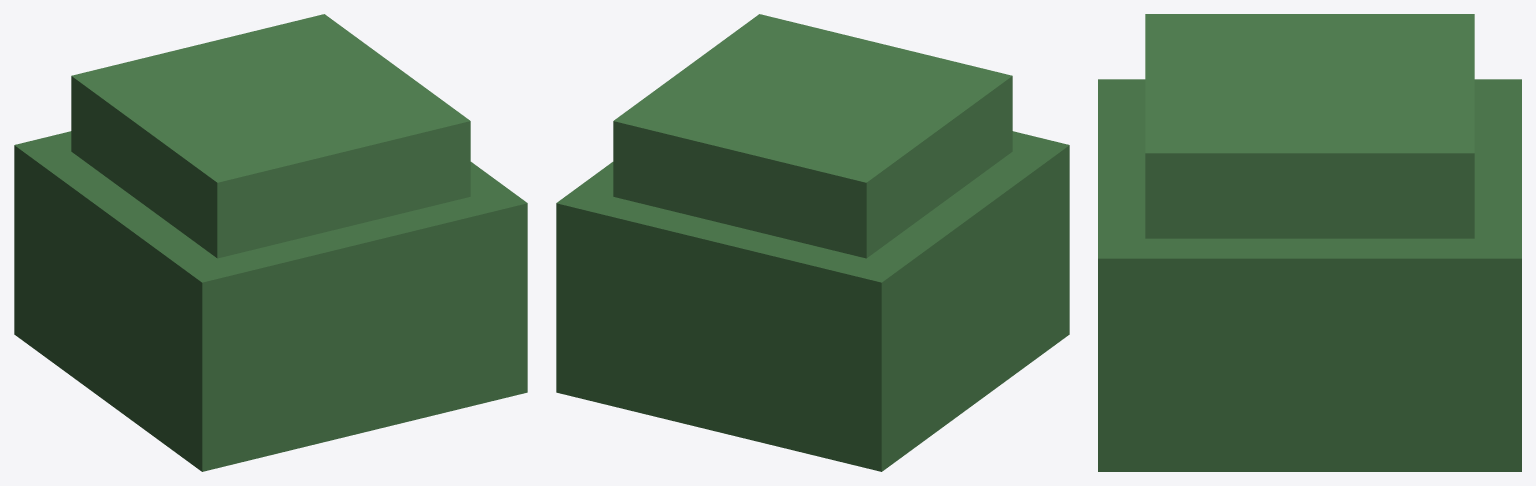
Rendered from acebo_04.glb.
3 views of the same model, side by side, from view 1: azimuth 30°, elevation 25°; view 2: azimuth 150°, elevation 25°; view 3: azimuth 270°, elevation 25° (orthographic). The views are drawn at different scales.
Visible parts, largest first — view 1: acebo_04; view 2: acebo_04; view 3: acebo_04.
Boxes of the visible parts, <box> form: acebo_04: <box>14,14,527,471</box>; acebo_04: <box>556,14,1069,471</box>; acebo_04: <box>1098,14,1521,471</box>.
Bounding box in the file's own units: 0.9 × 0.7 × 0.9.
